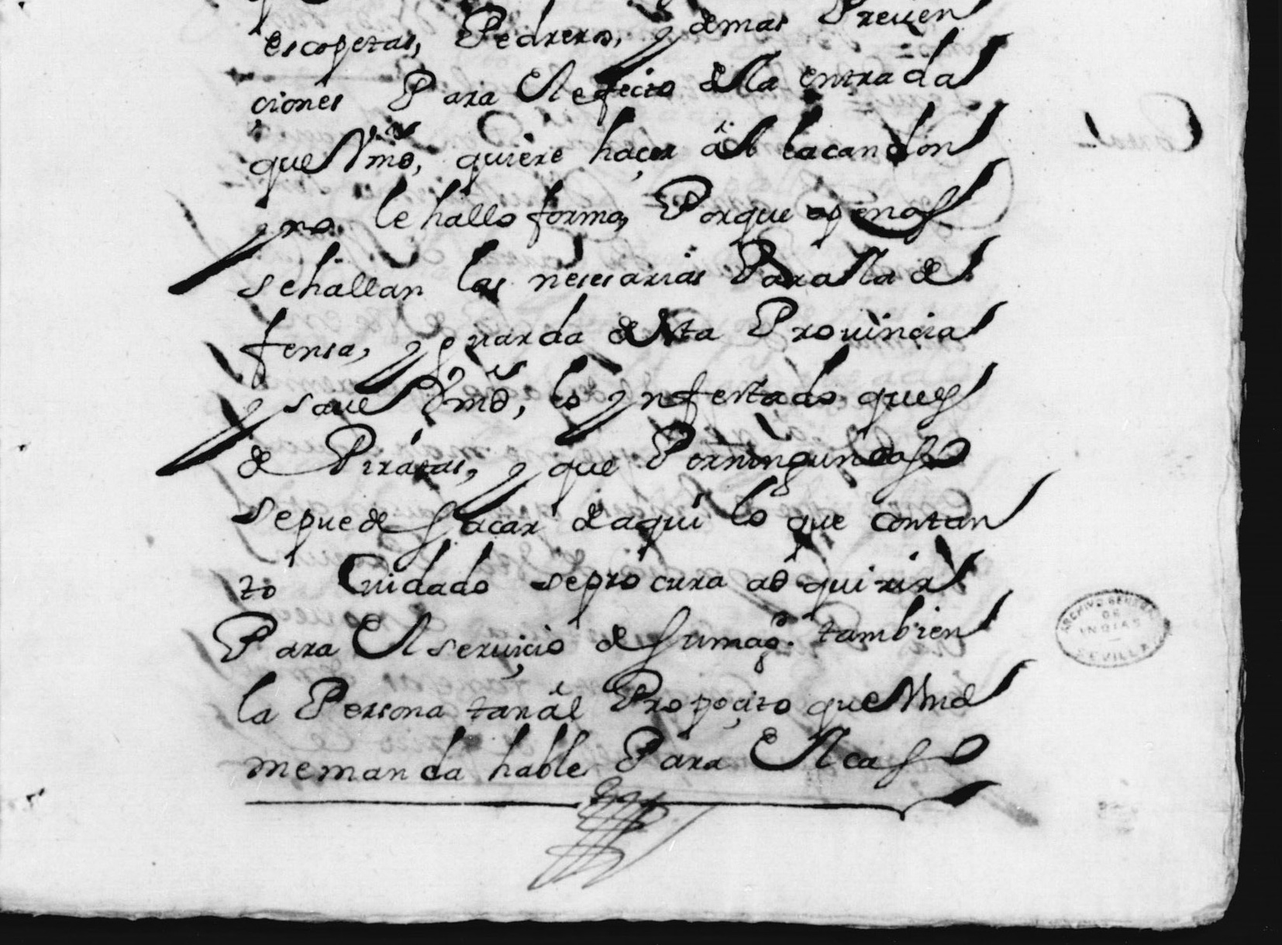lacandon: (782, 101, 1008, 163)
